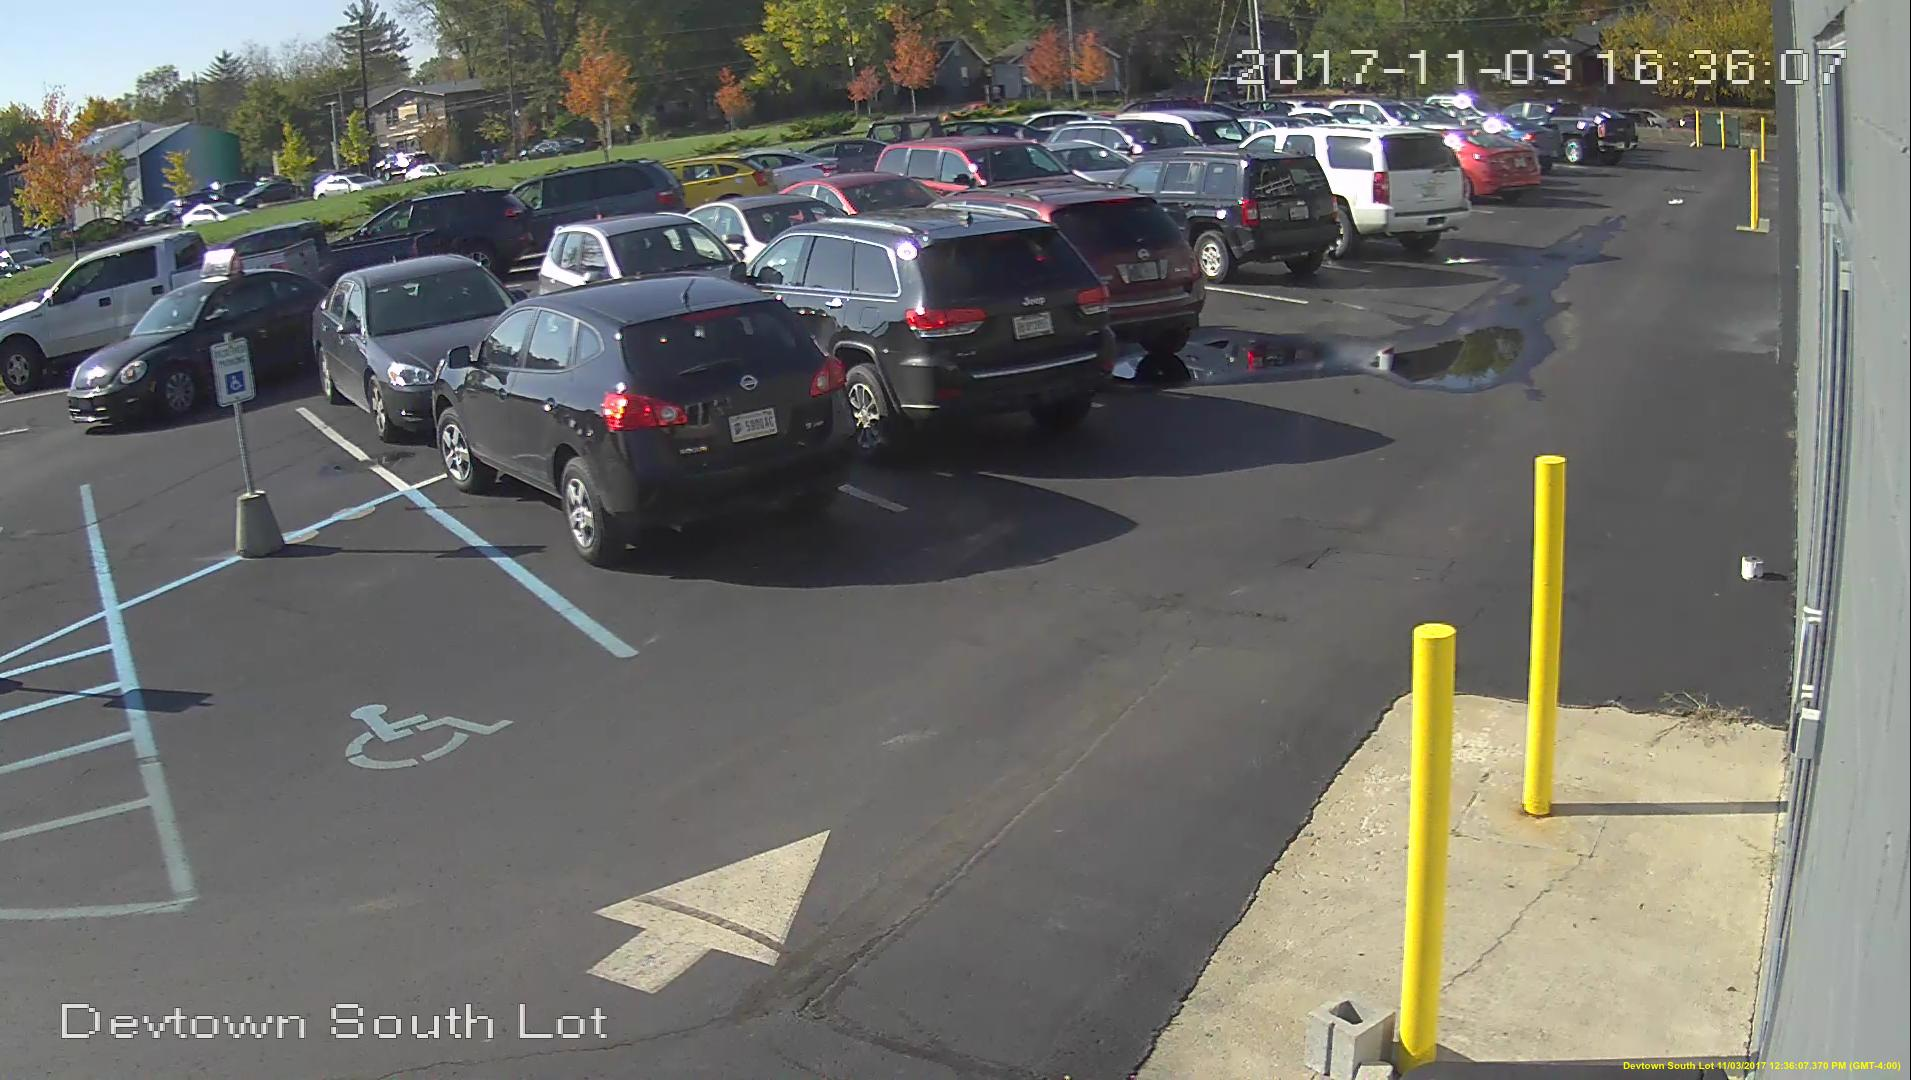jimmy_johns: (196, 247, 245, 280)
